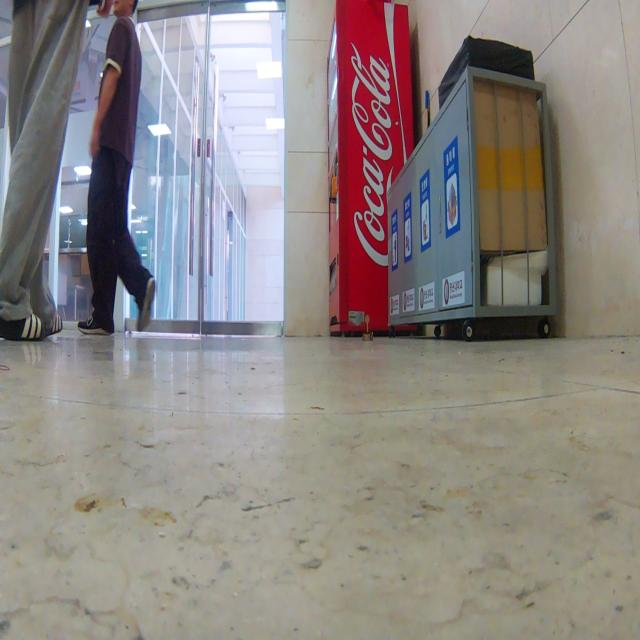target: (362, 311, 370, 342)
